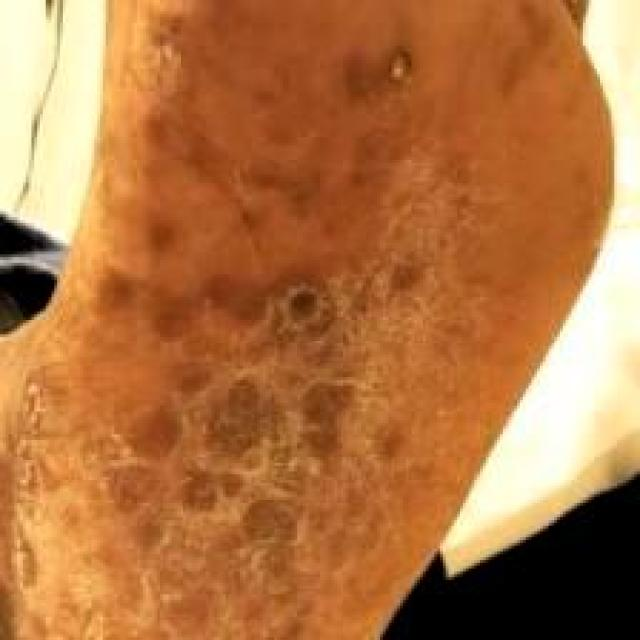monkeypox: (98, 0, 501, 640)
